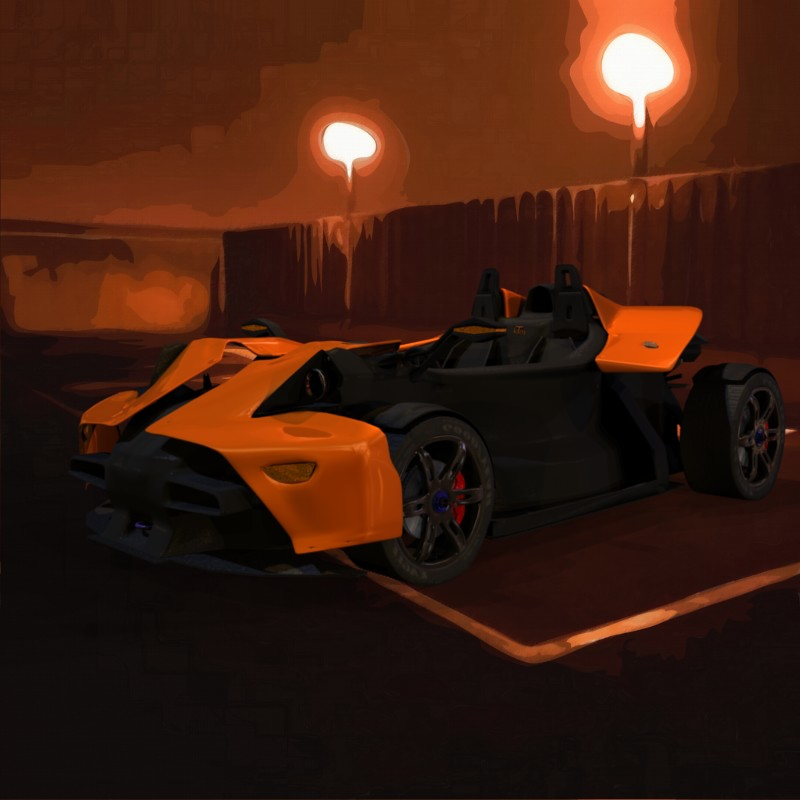hatch: (642, 341, 659, 349)
